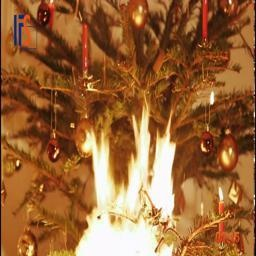fire: (75, 112, 195, 254)
